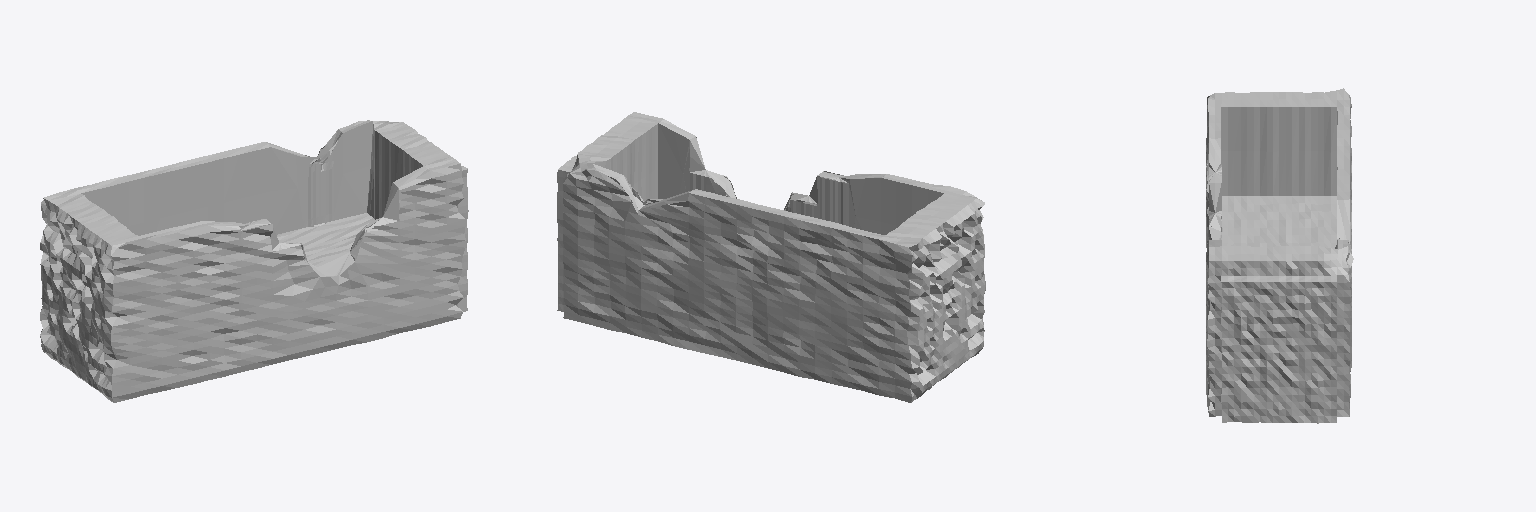
The model's file is lahit2.obj.
3 views of the same model, side by side, from view 1: azimuth 30°, elevation 25°; view 2: azimuth 150°, elevation 25°; view 3: azimuth 270°, elevation 25° (orthographic).
Visible parts, largest first — view 1: Cube_Material.001; view 2: Cube_Material.001; view 3: Cube_Material.001.
Part boxes in pixels (left/top/right/bottom): Cube_Material.001: left=40, top=120, right=468, bottom=402; Cube_Material.001: left=557, top=112, right=985, bottom=402; Cube_Material.001: left=1206, top=88, right=1353, bottom=423.
Bounding box in the file's own units: 6.03 × 2.47 × 2.09.